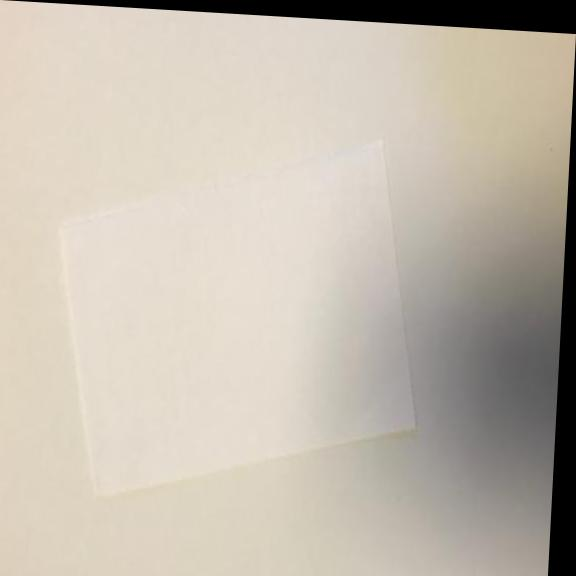Kertas: (41, 113, 447, 519)
